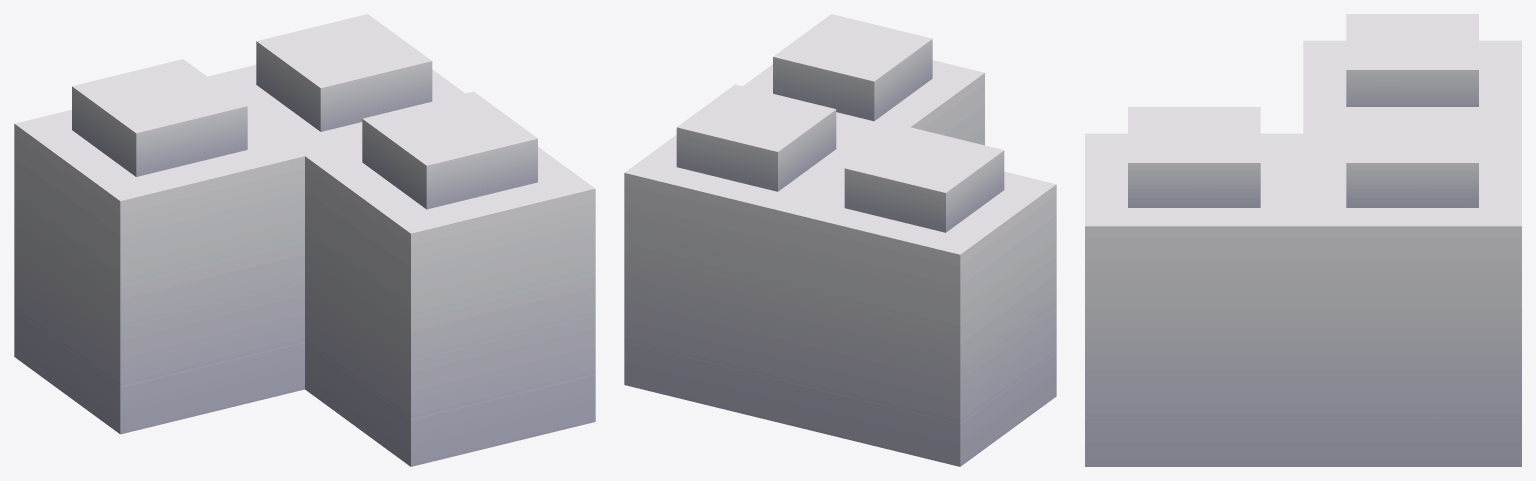
The model's file is square-lq-brick-corner.glb.
3 renders of one model, left to right at view 1: azimuth 30°, elevation 25°; view 2: azimuth 150°, elevation 25°; view 3: azimuth 270°, elevation 25°, orthographic. The views are drawn at different scales.
Visible parts, largest first — view 1: square-lq-brick-corner; view 2: square-lq-brick-corner; view 3: square-lq-brick-corner.
Part boxes in pixels (x1,y1,x2,y2): square-lq-brick-corner: [14, 14, 595, 466]; square-lq-brick-corner: [624, 14, 1056, 466]; square-lq-brick-corner: [1085, 14, 1521, 466].
Bounding box in the file's own units: 0.159 × 0.114 × 0.158.
Materials: 1 (1 with a texture image).
